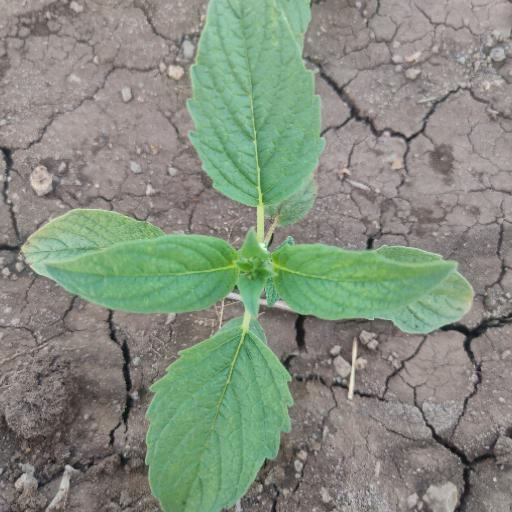crop: (6, 2, 480, 512)
